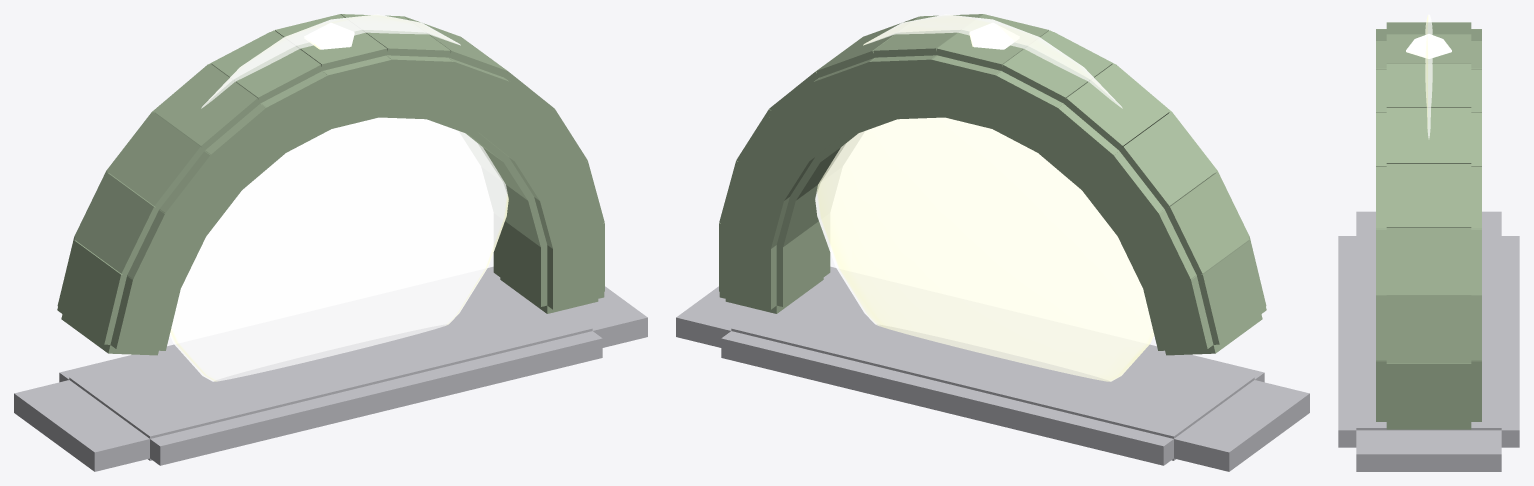
Rendered from build_portal_prehistoric.glb.
3 renders of one model, left to right at view 1: azimuth 30°, elevation 25°; view 2: azimuth 150°, elevation 25°; view 3: azimuth 270°, elevation 25°, orthographic. The views are drawn at different scales.
Parts seen in each view (by area): view 1: box; view 2: box; view 3: box.
Part boxes in pixels (bbox=[...]): box: bbox=[14, 14, 647, 471]; box: bbox=[676, 14, 1309, 471]; box: bbox=[1338, 14, 1519, 471].
Size of the model in its own units: 3.8 by 2.5 by 1.2.
